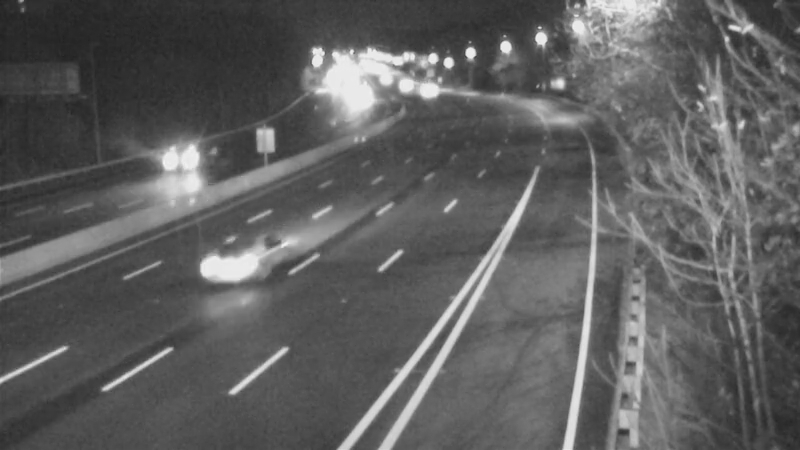vehicle: (198, 216, 278, 296), (143, 126, 223, 206)
